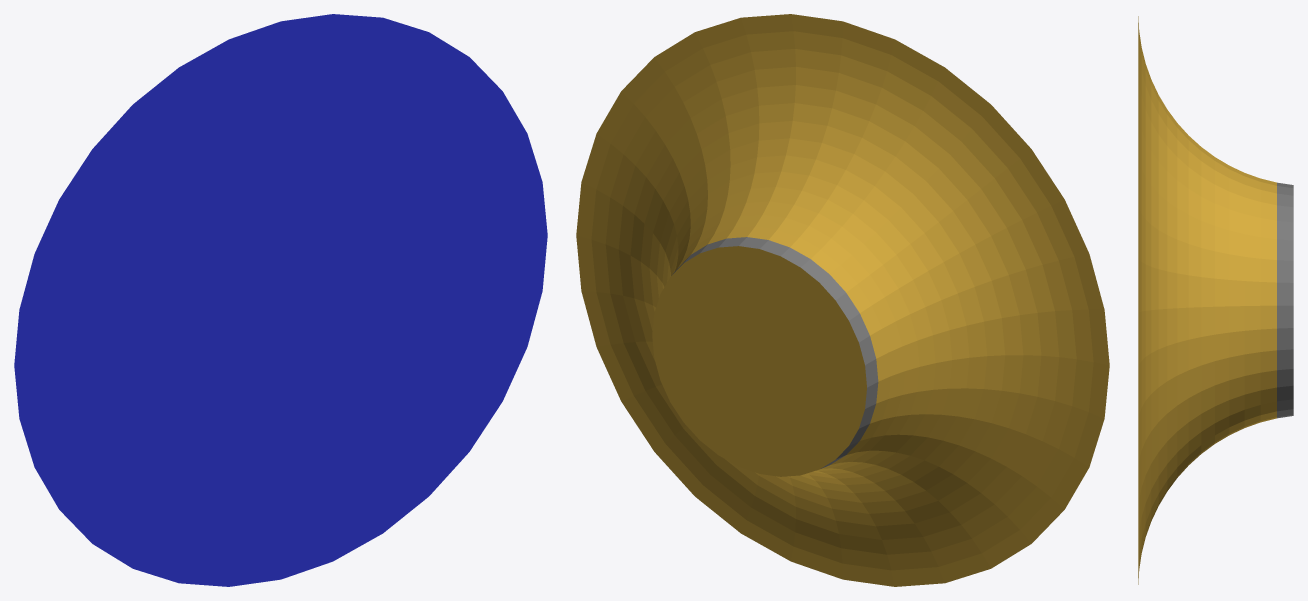
The model's file is Circle Platform.fbx.
The picture shows the model from 3 angles, left to right: view 1: azimuth 30°, elevation 25°; view 2: azimuth 150°, elevation 25°; view 3: azimuth 270°, elevation 25°; orthographic projection. The views are drawn at different scales.
Parts seen in each view (by area): view 1: Circle Platform; view 2: Circle Platform; view 3: Circle Platform.
Part boxes in pixels (x1=…): Circle Platform: x1=14, y1=14, x2=547, y2=586; Circle Platform: x1=576, y1=14, x2=1109, y2=586; Circle Platform: x1=1138, y1=16, x2=1293, y2=584.
Size of the model in its own units: 2000 by 2000 by 541.
